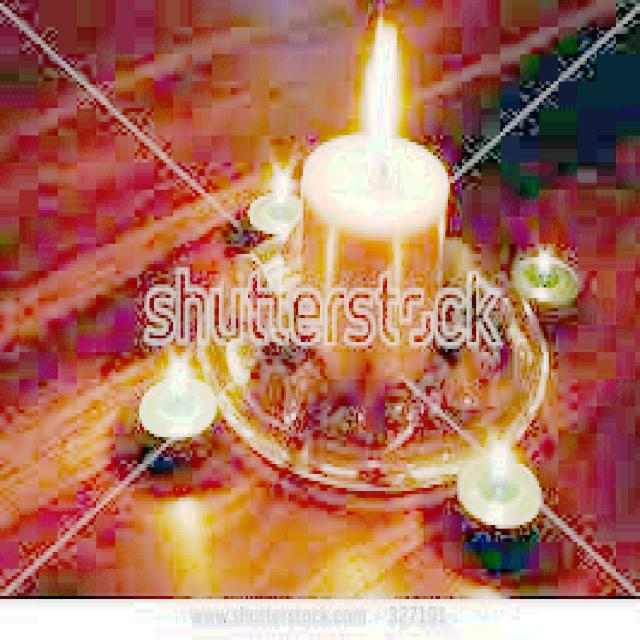api: (355, 15, 420, 187)
